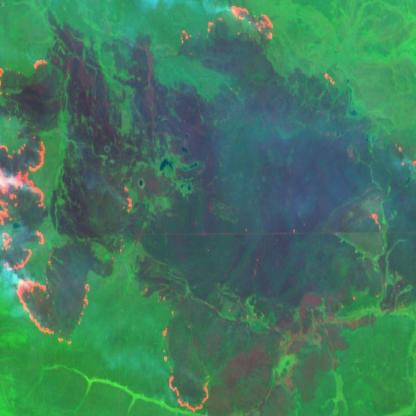fire: (0, 53, 97, 347), (176, 0, 281, 49), (157, 318, 209, 416)
